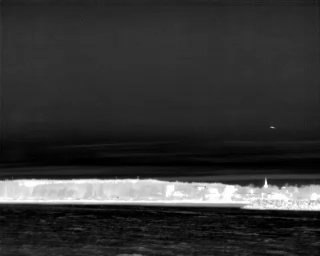BIRD: (269, 124, 276, 131)
